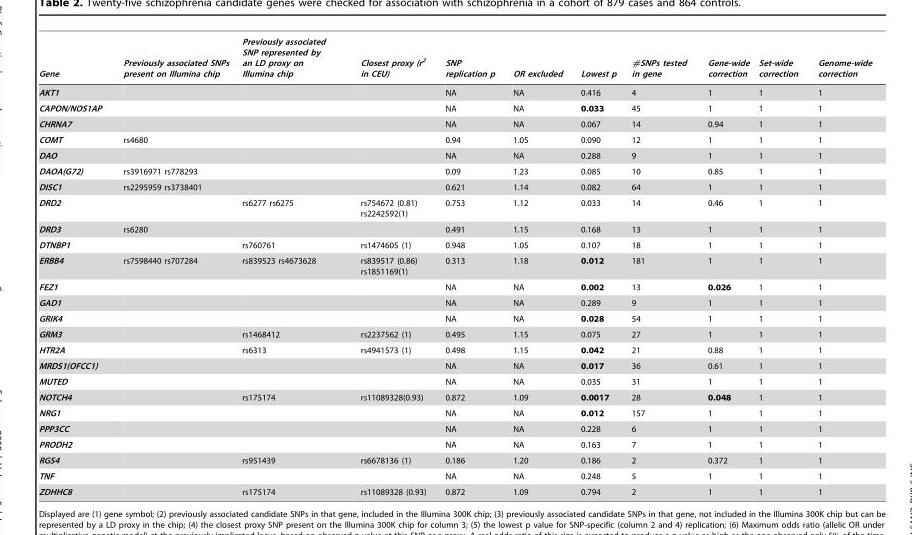table: (38, 37, 874, 496)
table column: (113, 37, 236, 496), (236, 37, 343, 496), (343, 37, 435, 496), (38, 37, 113, 496), (624, 37, 698, 496), (435, 37, 504, 496), (504, 37, 572, 496), (808, 37, 874, 496), (698, 37, 754, 496), (754, 37, 808, 496), (572, 37, 624, 496)
table column header: (38, 37, 874, 83)
table row: (38, 37, 874, 83), (38, 194, 874, 221), (38, 252, 874, 279), (38, 83, 874, 100), (38, 100, 874, 116), (38, 131, 874, 147), (38, 147, 874, 163), (38, 163, 874, 179), (38, 221, 874, 237), (38, 294, 874, 310), (38, 310, 874, 326), (38, 326, 874, 342), (38, 357, 874, 373), (38, 373, 874, 389), (38, 389, 874, 405), (38, 420, 874, 436), (38, 436, 874, 452), (38, 452, 874, 468), (38, 116, 874, 131), (38, 179, 874, 194), (38, 237, 874, 252), (38, 279, 874, 294), (38, 342, 874, 357), (38, 405, 874, 420), (38, 468, 874, 483), (38, 483, 874, 496)
